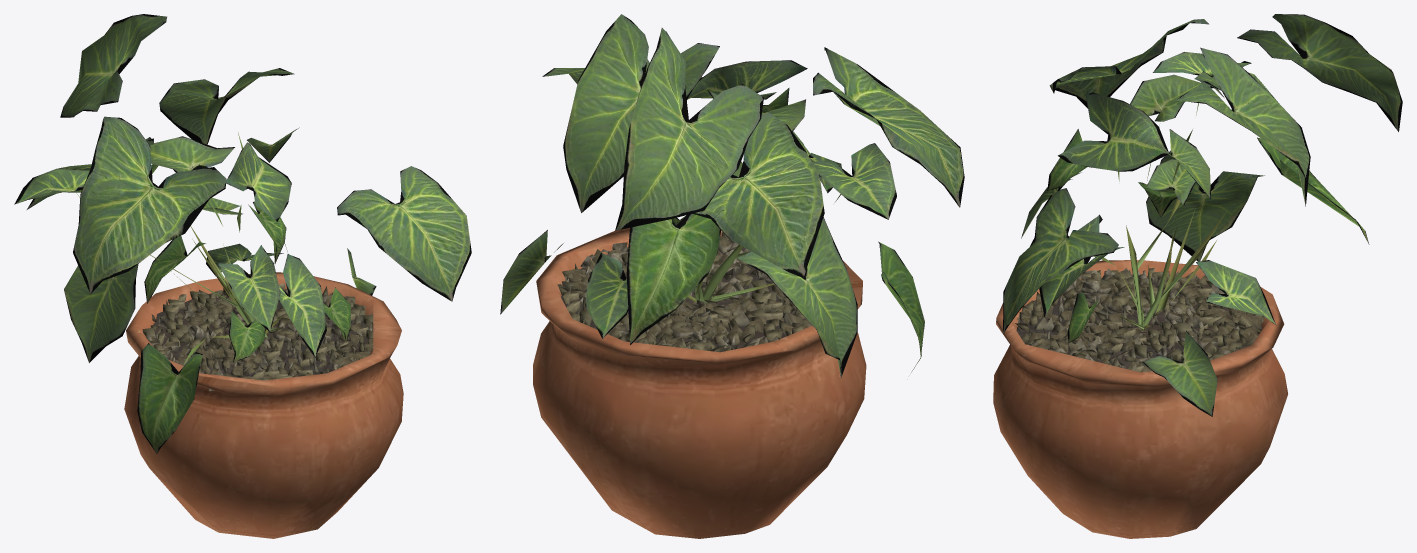
The model's file is plant_big.glb.
3 views of the same model, side by side, from view 1: azimuth 30°, elevation 25°; view 2: azimuth 150°, elevation 25°; view 3: azimuth 270°, elevation 25° (orthographic). The views are drawn at different scales.
Parts seen in each view (by area): view 1: potted_plant_02_leaves, potted_plant_02_pot; view 2: potted_plant_02_leaves, potted_plant_02_pot; view 3: potted_plant_02_pot, potted_plant_02_leaves.
Part boxes in pixels (x1,y1,x2,y2): potted_plant_02_leaves: (14, 14, 471, 453); potted_plant_02_pot: (124, 272, 403, 538); potted_plant_02_leaves: (500, 14, 964, 377); potted_plant_02_pot: (533, 227, 866, 538); potted_plant_02_pot: (993, 260, 1287, 538); potted_plant_02_leaves: (1003, 14, 1402, 416).
Size of the model in its own units: 0.7009 by 0.8395 by 0.6553.
Materials: 2 (2 with a texture image).
